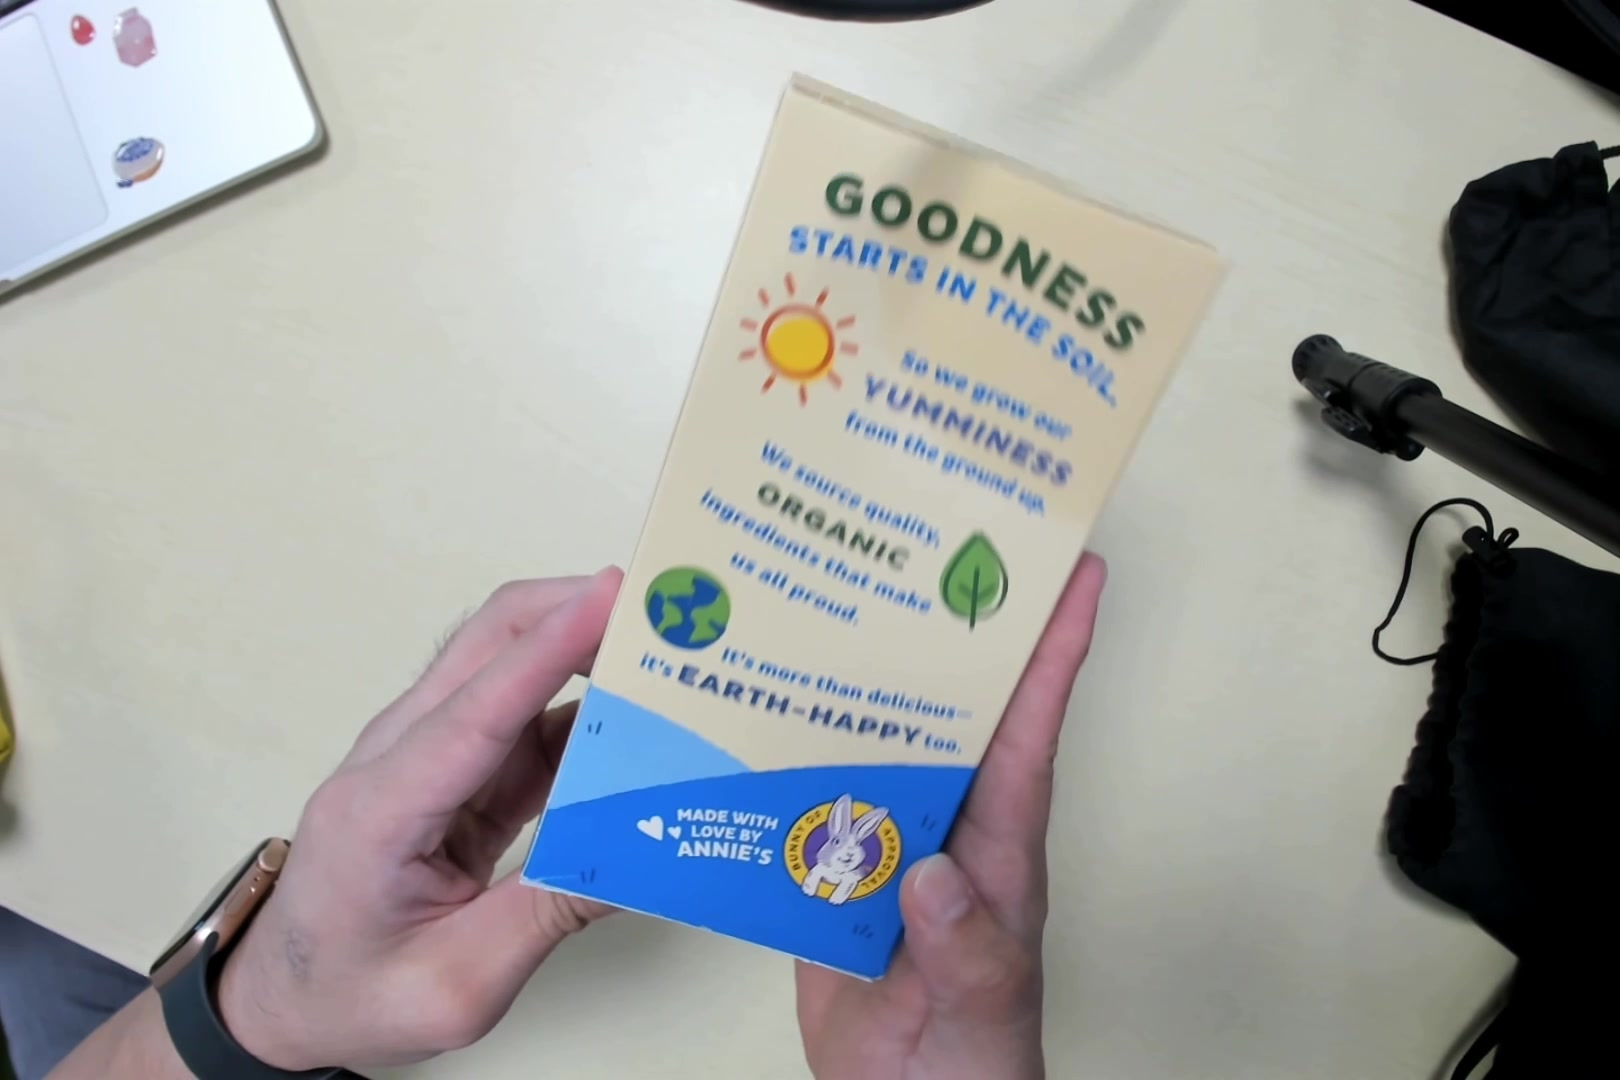InstantMeals_200-299g_NonHalal_NonHealthy: (540, 61, 1155, 994)
